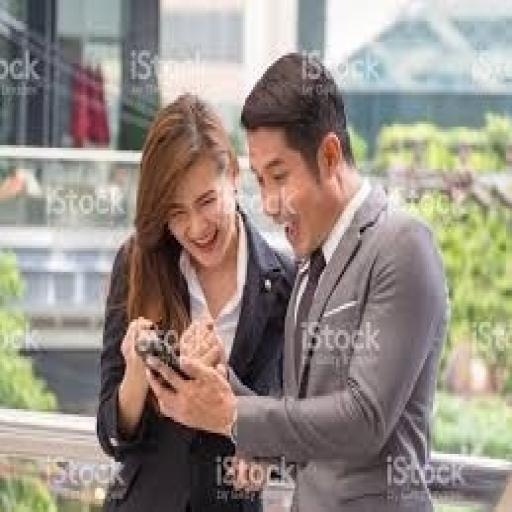texting: (134, 48, 451, 510), (93, 90, 296, 509)
